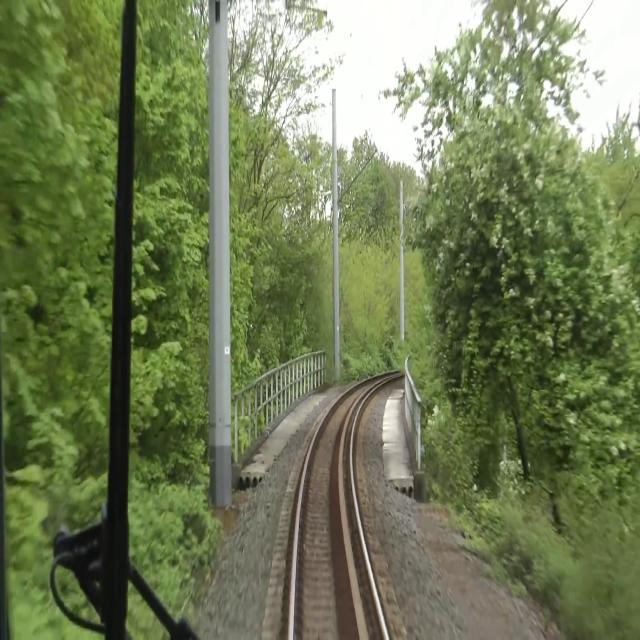rail-track: (294, 376, 388, 639)
